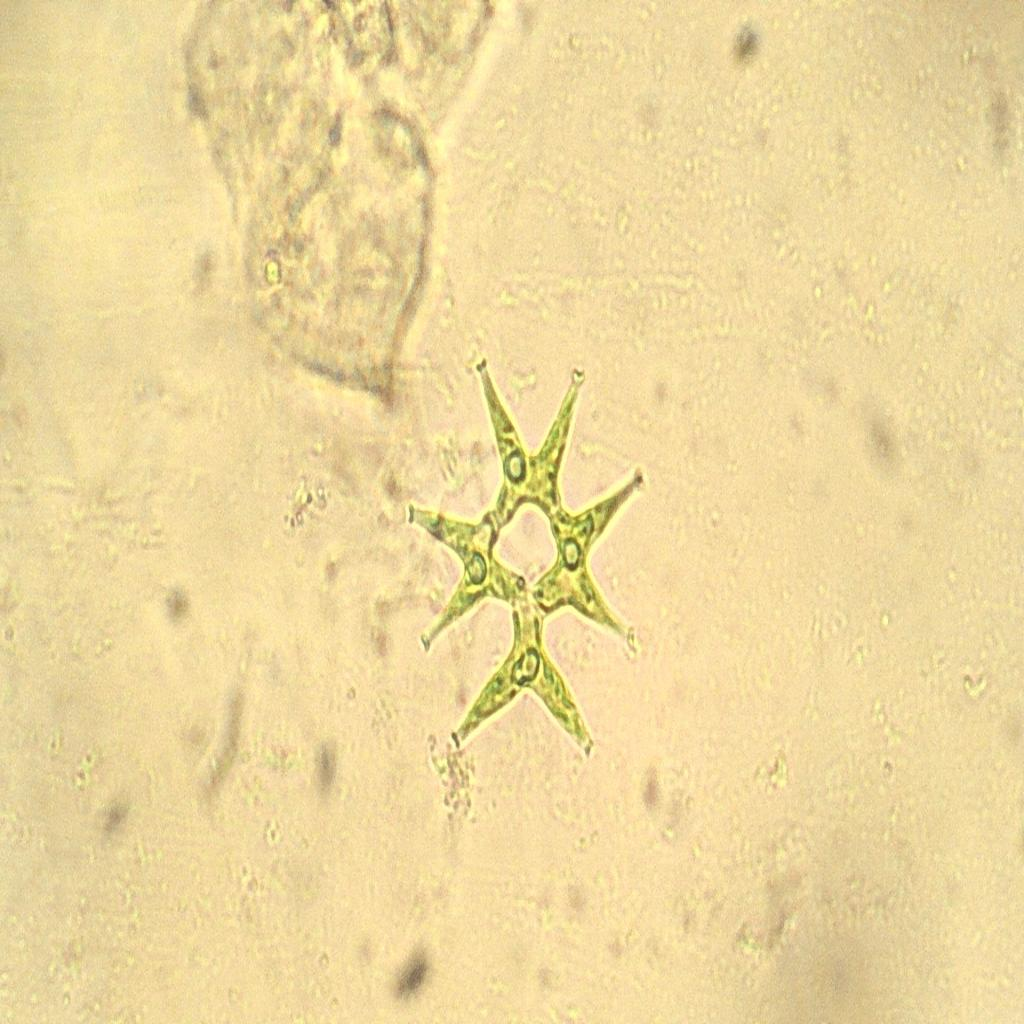Pediastrum_CT: (406, 346, 648, 798)
